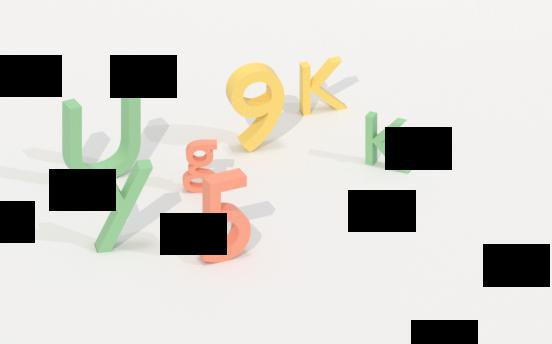5: (195, 168, 254, 268)
9: (223, 60, 287, 158)
Y: (91, 158, 154, 257)
g: (182, 137, 223, 197)
k: (296, 52, 349, 120), (363, 107, 414, 177)
u: (60, 83, 144, 187)
